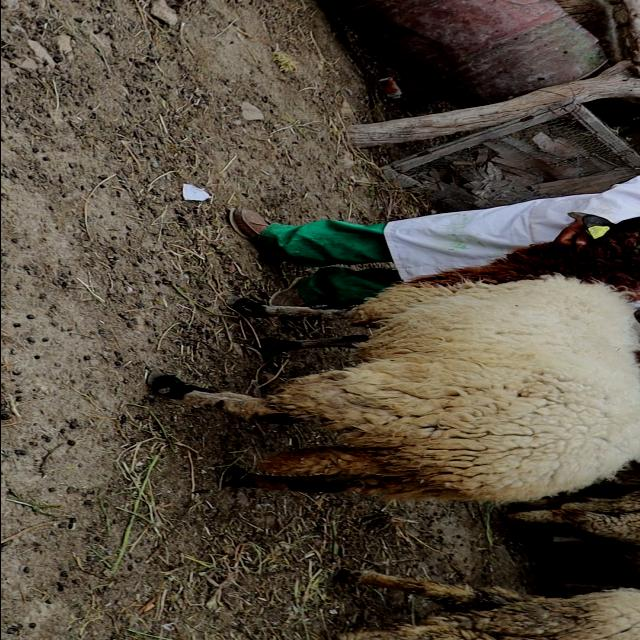Score_4: (146, 212, 640, 502)
